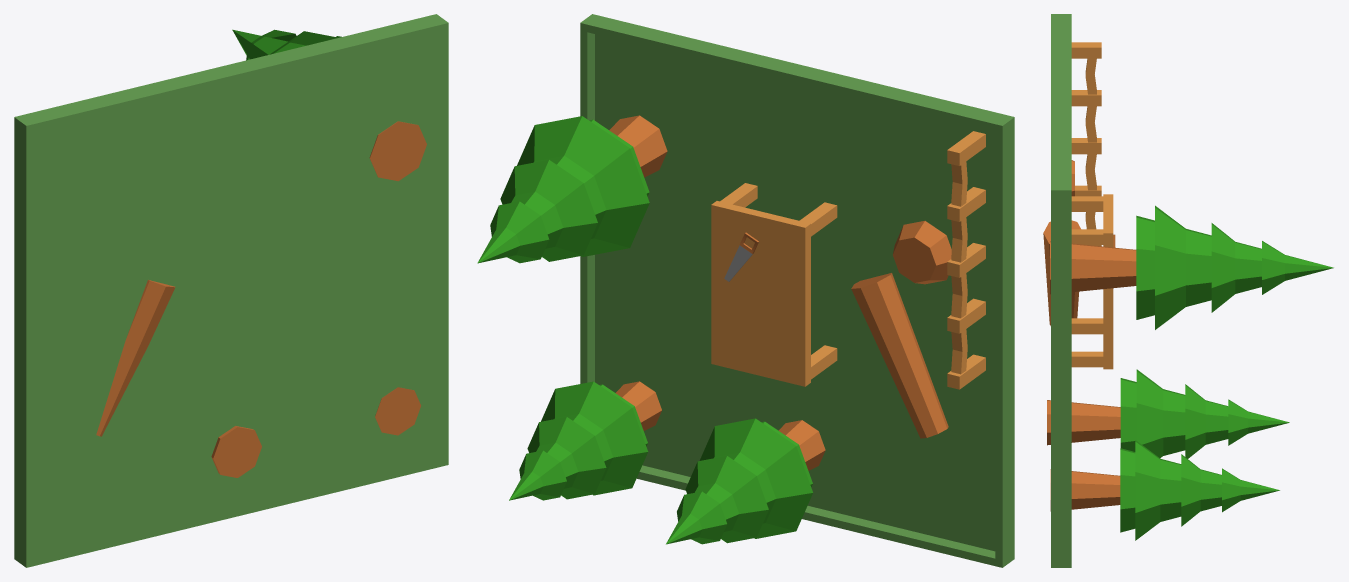
The model's file is treeFarm.fbx.
The picture shows the model from 3 angles, left to right: view 1: azimuth 30°, elevation 25°; view 2: azimuth 150°, elevation 25°; view 3: azimuth 270°, elevation 25°; orthographic projection. The views are drawn at different scales.
Visible parts, largest first — view 1: Cube.005; view 2: Cube.005; view 3: Cube.005.
Part boxes in pixels (x1,y1,x2,y2): Cube.005: (14,14,448,567); Cube.005: (477,14,1014,567); Cube.005: (1043,14,1333,567).
Bounding box in the file's own units: 299 × 288 × 201.
